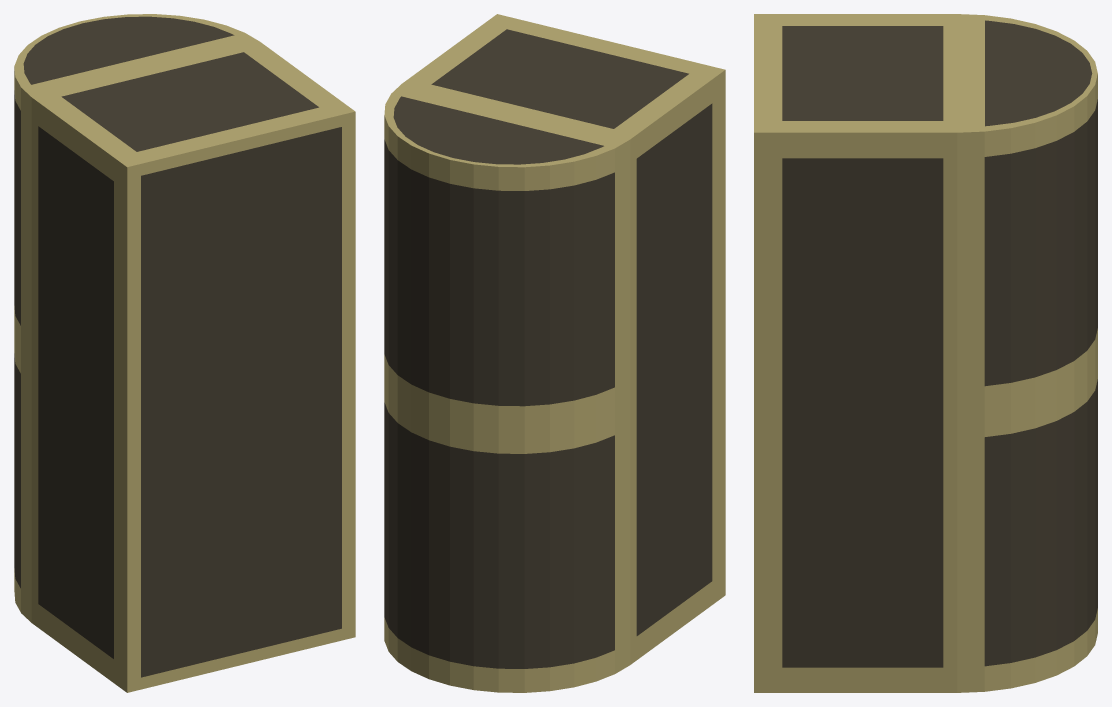
File: Shipwreck.fbx
3 views of the same model, side by side, from view 1: azimuth 30°, elevation 25°; view 2: azimuth 150°, elevation 25°; view 3: azimuth 270°, elevation 25° (orthographic). The views are drawn at different scales.
Parts seen in each view (by area): view 1: Trunk, Lid; view 2: Lid, Trunk; view 3: Trunk, Lid.
Boxes of the visible parts, x1,y1,x2,y2 form: Trunk: (31,42,355,692); Lid: (14,14,259,622); Lid: (384,84,630,692); Trunk: (402,14,725,664); Trunk: (754,14,957,692); Lid: (957,14,1097,692).
Size of the model in its own units: 200 by 440 by 245.
